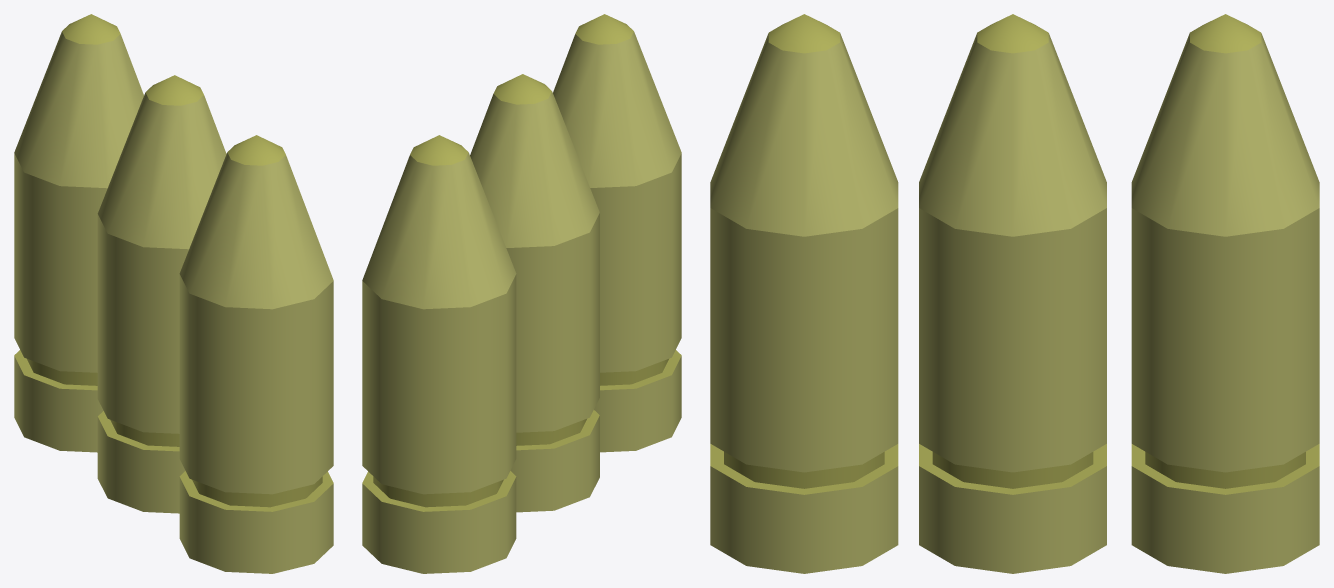
Rendered from ammo_pickup2.glb.
The picture shows the model from 3 angles, left to right: view 1: azimuth 30°, elevation 25°; view 2: azimuth 150°, elevation 25°; view 3: azimuth 270°, elevation 25°; orthographic projection. The views are drawn at different scales.
Visible parts, largest first — view 1: pCylinder2, pCylinder3, pCylinder1; view 2: pCylinder3, pCylinder1, pCylinder2; view 3: pCylinder2, pCylinder3, pCylinder1.
Boxes of the visible parts, box(x1,y1,x2,y2) form: pCylinder2: box(179, 135, 333, 573); pCylinder3: box(14, 14, 143, 452); pCylinder1: box(97, 75, 226, 513); pCylinder3: box(362, 135, 516, 573); pCylinder1: box(470, 74, 599, 512); pCylinder2: box(553, 14, 681, 452); pCylinder2: box(710, 14, 898, 573); pCylinder3: box(1131, 14, 1319, 573); pCylinder1: box(919, 14, 1106, 573).
Bounding box in the file's own units: 13.7 × 39.68 × 42.26.
Materials: 1 (1 with a texture image).
